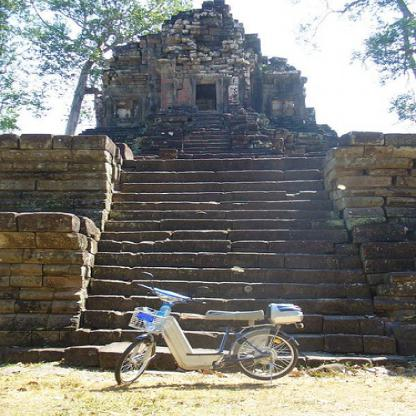motorbike: (107, 279, 308, 389)
